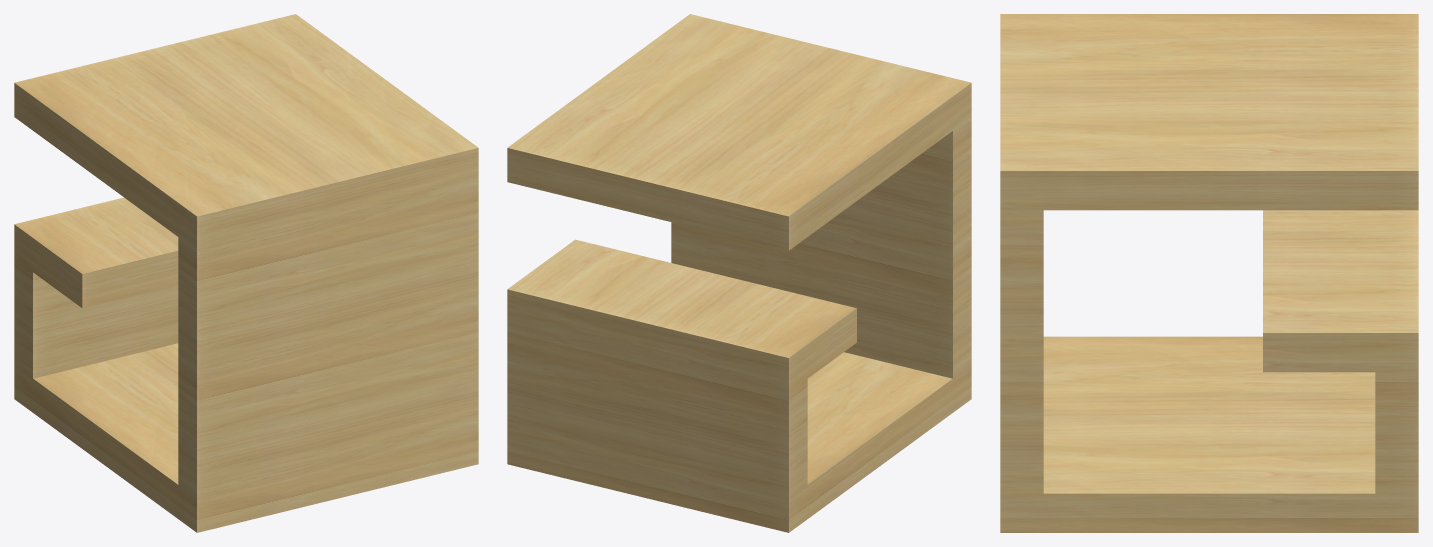
Rendered from Cabinet01A.FBX.
3 renders of one model, left to right at view 1: azimuth 30°, elevation 25°; view 2: azimuth 150°, elevation 25°; view 3: azimuth 270°, elevation 25°, orthographic. The views are drawn at different scales.
Visible parts, largest first — view 1: Cabinet01; view 2: Cabinet01; view 3: Cabinet01.
Part boxes in pixels (x1,y1,x2,y2): Cabinet01: (14,14,478,532); Cabinet01: (507,14,971,532); Cabinet01: (1000,14,1418,532).
Size of the model in its own units: 42.98 by 48.34 by 46.14.
